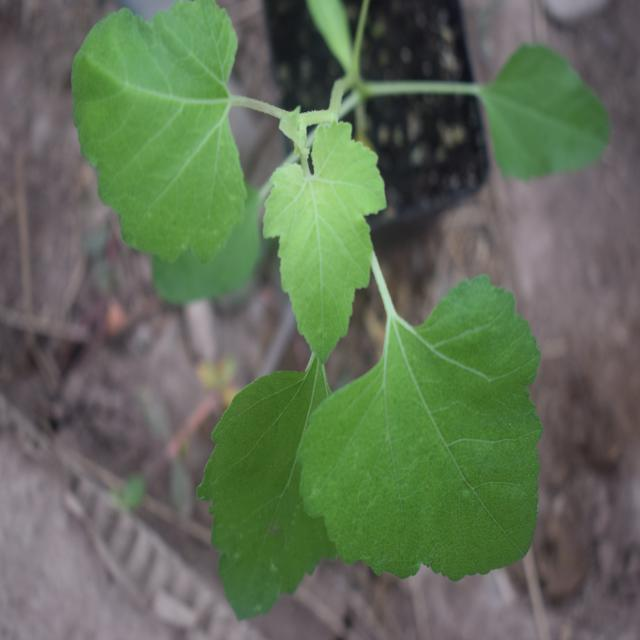cocklebur: (59, 0, 526, 587)
